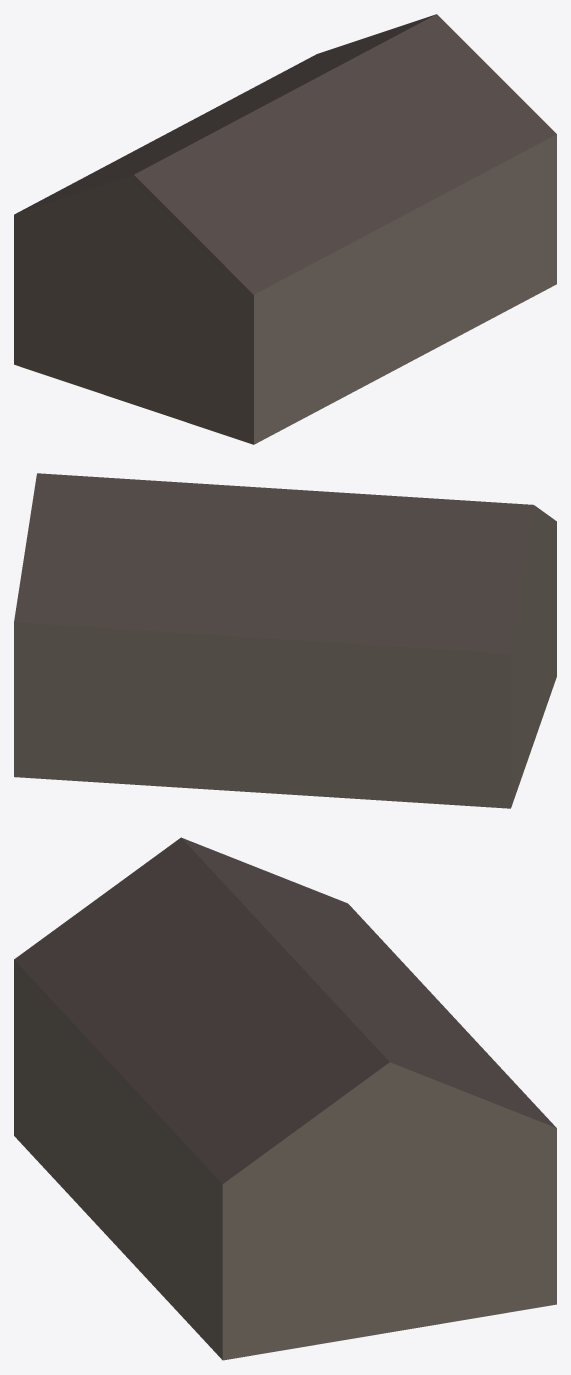
The picture shows the model from 3 angles, top to bottom: view 1: azimuth 30°, elevation 25°; view 2: azimuth 150°, elevation 25°; view 3: azimuth 270°, elevation 25°; orthographic projection. The views are drawn at different scales.
Parts seen in each view (by area): view 1: HP-w373833557; view 2: HP-w373833557; view 3: HP-w373833557.
Part boxes in pixels (x1,y1,x2,y2): HP-w373833557: [14, 14, 556, 444]; HP-w373833557: [14, 473, 556, 808]; HP-w373833557: [14, 837, 556, 1360].
Bounding box in the file's own units: 20.5 × 9.2 × 16.75.
